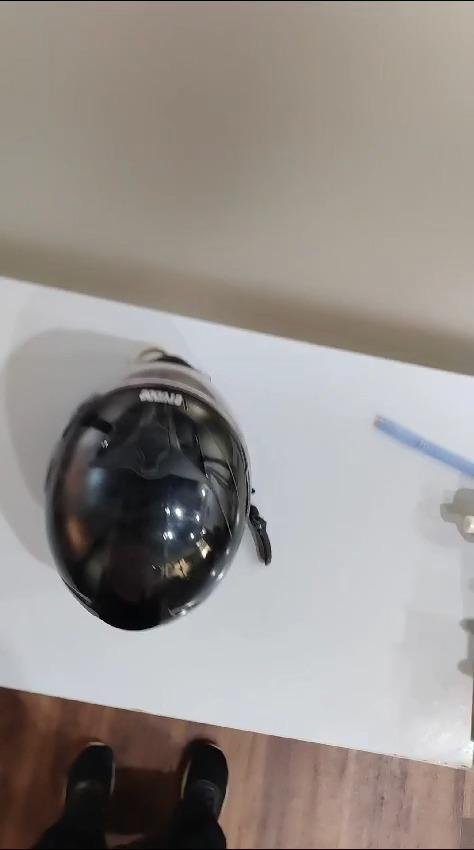Helmet: (44, 360, 245, 638)
